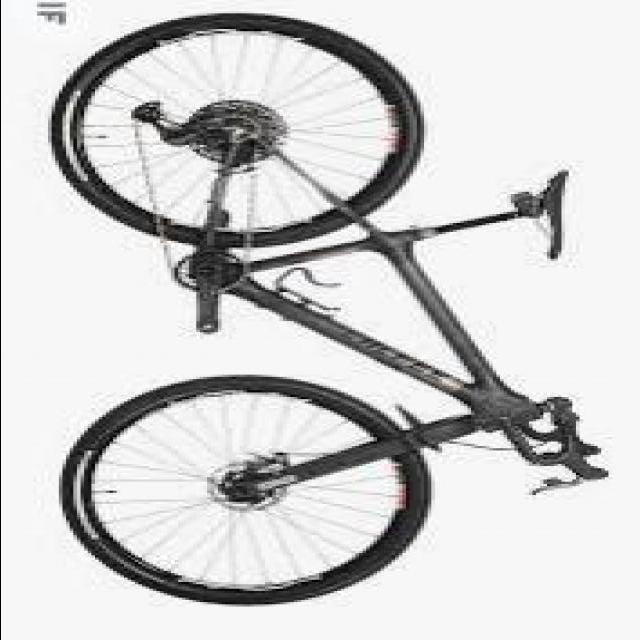bicycle: (40, 17, 608, 605)
